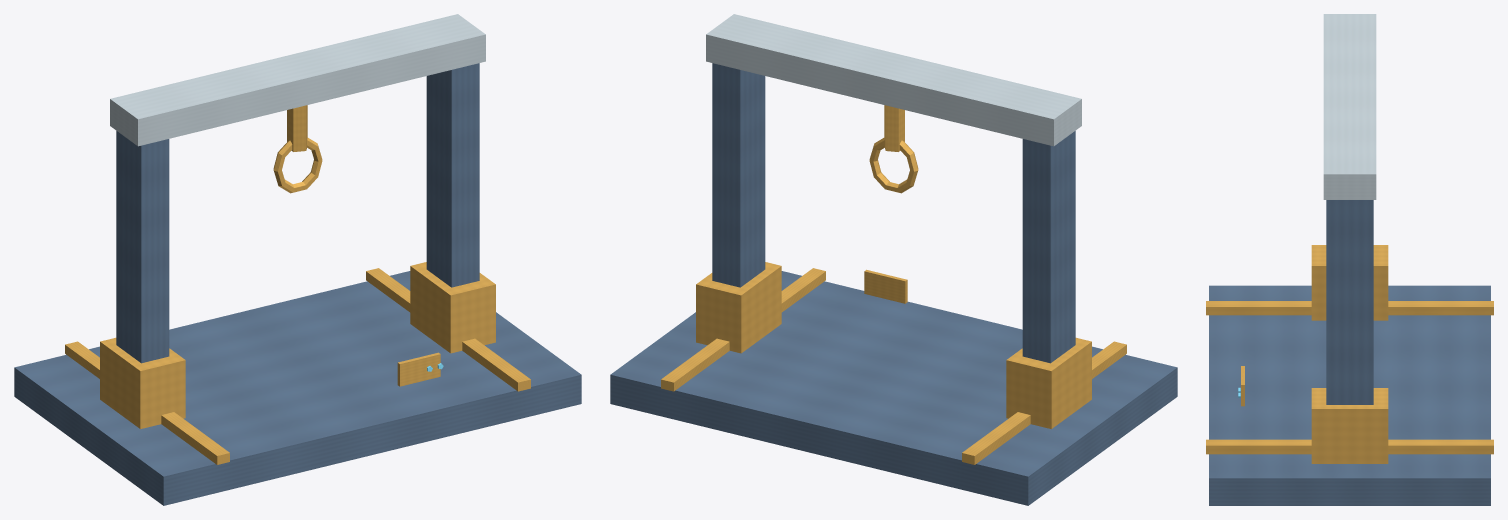
File: atlas100-s058-a02.lod1.glb
3 renders of one model, left to right at view 1: azimuth 30°, elevation 25°; view 2: azimuth 150°, elevation 25°; view 3: azimuth 270°, elevation 25°, orthographic. The views are drawn at different scales.
Parts seen in each view (by area): view 1: atlas100-s058-a02:part-000, atlas100-s058-a02:part-007, atlas100-s058-a02:part-003, atlas100-s058-a02:part-005, atlas100-s058-a02:part-006, atlas100-s058-a02:part-004, atlas100-s058-a02:part-002, atlas100-s058-a02:part-001, atlas100-s058-a02:part-009, atlas100-s058-a02:part-010, atlas100-s058-a02:part-008; view 2: atlas100-s058-a02:part-000, atlas100-s058-a02:part-007, atlas100-s058-a02:part-003, atlas100-s058-a02:part-005, atlas100-s058-a02:part-006, atlas100-s058-a02:part-004, atlas100-s058-a02:part-002, atlas100-s058-a02:part-001, atlas100-s058-a02:part-009, atlas100-s058-a02:part-010, atlas100-s058-a02:part-008; view 3: atlas100-s058-a02:part-000, atlas100-s058-a02:part-007, atlas100-s058-a02:part-005, atlas100-s058-a02:part-006, atlas100-s058-a02:part-002, atlas100-s058-a02:part-001, atlas100-s058-a02:part-004.
Part boxes in pixels (x1=…): atlas100-s058-a02:part-000: x1=14, y1=271, x2=581, y2=505; atlas100-s058-a02:part-007: x1=110, y1=14, x2=485, y2=146; atlas100-s058-a02:part-003: x1=116, y1=131, x2=169, y2=363; atlas100-s058-a02:part-005: x1=426, y1=63, x2=479, y2=287; atlas100-s058-a02:part-006: x1=410, y1=262, x2=495, y2=353; atlas100-s058-a02:part-004: x1=100, y1=337, x2=185, y2=428; atlas100-s058-a02:part-002: x1=366, y1=268, x2=530, y2=391; atlas100-s058-a02:part-001: x1=65, y1=341, x2=229, y2=464; atlas100-s058-a02:part-009: x1=273, y1=138, x2=322, y2=193; atlas100-s058-a02:part-010: x1=397, y1=352, x2=440, y2=386; atlas100-s058-a02:part-008: x1=287, y1=105, x2=307, y2=151; atlas100-s058-a02:part-000: x1=610, y1=271, x2=1177, y2=505; atlas100-s058-a02:part-007: x1=706, y1=14, x2=1081, y2=146; atlas100-s058-a02:part-003: x1=1022, y1=131, x2=1075, y2=363; atlas100-s058-a02:part-005: x1=712, y1=63, x2=765, y2=287; atlas100-s058-a02:part-006: x1=696, y1=262, x2=781, y2=353; atlas100-s058-a02:part-004: x1=1006, y1=337, x2=1091, y2=428; atlas100-s058-a02:part-002: x1=661, y1=268, x2=825, y2=391; atlas100-s058-a02:part-001: x1=962, y1=341, x2=1126, y2=464; atlas100-s058-a02:part-009: x1=869, y1=138, x2=918, y2=193; atlas100-s058-a02:part-010: x1=864, y1=269, x2=907, y2=303; atlas100-s058-a02:part-008: x1=884, y1=105, x2=904, y2=151; atlas100-s058-a02:part-000: x1=1209, y1=285, x2=1490, y2=505; atlas100-s058-a02:part-007: x1=1323, y1=14, x2=1376, y2=199; atlas100-s058-a02:part-005: x1=1326, y1=200, x2=1373, y2=404; atlas100-s058-a02:part-006: x1=1311, y1=388, x2=1388, y2=463; atlas100-s058-a02:part-002: x1=1206, y1=439, x2=1493, y2=454; atlas100-s058-a02:part-001: x1=1206, y1=301, x2=1493, y2=315; atlas100-s058-a02:part-004: x1=1311, y1=245, x2=1388, y2=320.
Size of the model in its own units: 3.88 by 2.96 by 2.45.
4 materials, 4 textured.
